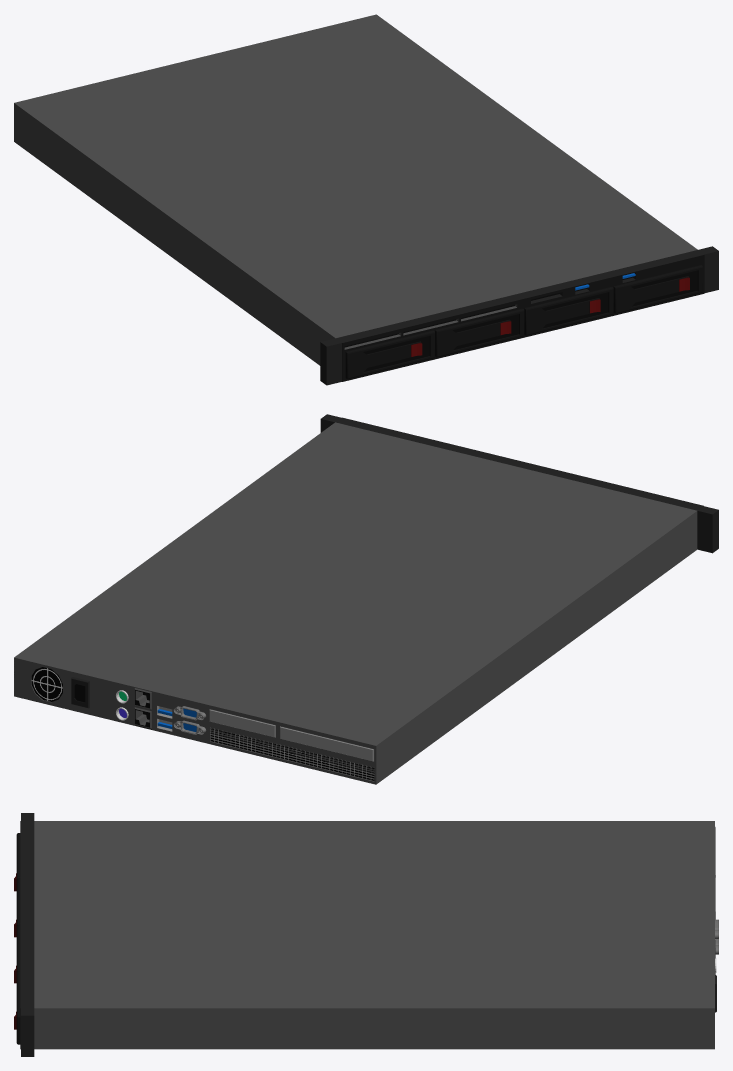
3 views of the same model, one above another, from view 1: azimuth 30°, elevation 25°; view 2: azimuth 150°, elevation 25°; view 3: azimuth 270°, elevation 25° (orthographic). The views are drawn at different scales.
Visible parts, largest first — view 1: HPE_DL320_G6; view 2: HPE_DL320_G6; view 3: HPE_DL320_G6.
Boxes of the visible parts, left/top/right/bottom form: HPE_DL320_G6: left=14, top=14, right=718, bottom=385; HPE_DL320_G6: left=14, top=414, right=718, bottom=784; HPE_DL320_G6: left=14, top=813, right=718, bottom=1056.
Bounding box in the file's own units: 470 × 44.5 × 691.
19 materials, 2 textured.
